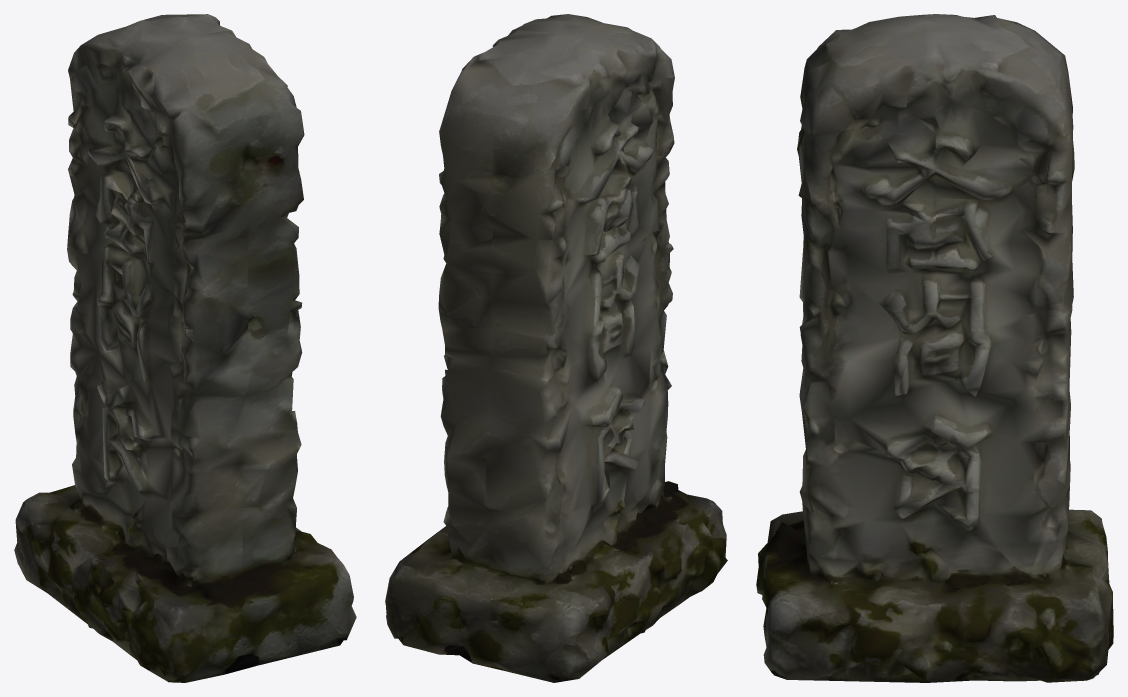
File: grave-slab.glb
3 renders of one model, left to right at view 1: azimuth 30°, elevation 25°; view 2: azimuth 150°, elevation 25°; view 3: azimuth 270°, elevation 25°, orthographic. The views are drawn at different scales.
Parts seen in each view (by area): view 1: tripo_node_98f9c292-c0a4-416c-97be-1b3c7f054084; view 2: tripo_node_98f9c292-c0a4-416c-97be-1b3c7f054084; view 3: tripo_node_98f9c292-c0a4-416c-97be-1b3c7f054084.
Boxes of the visible parts, left/top/right/bottom form: tripo_node_98f9c292-c0a4-416c-97be-1b3c7f054084: left=14, top=14, right=356, bottom=682; tripo_node_98f9c292-c0a4-416c-97be-1b3c7f054084: left=385, top=14, right=727, bottom=682; tripo_node_98f9c292-c0a4-416c-97be-1b3c7f054084: left=756, top=14, right=1113, bottom=682.
Bounding box in the file's own units: 0.3928 × 0.9993 × 0.5342.
1 material, 1 textured.
